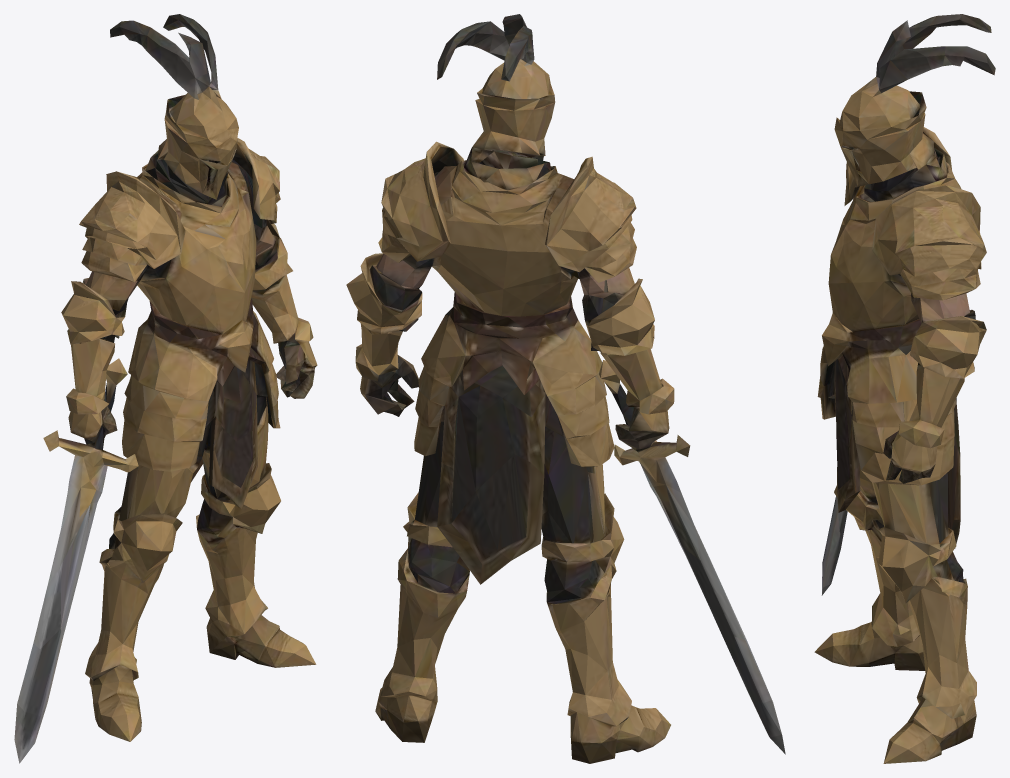
The model's file is ordeval.glb.
3 views of the same model, side by side, from view 1: azimuth 30°, elevation 25°; view 2: azimuth 150°, elevation 25°; view 3: azimuth 270°, elevation 25° (orthographic). The views are drawn at different scales.
Parts seen in each view (by area): view 1: avatar; view 2: avatar; view 3: avatar.
Boxes of the visible parts, <box> form: avatar: <box>14,14,317,763</box>; avatar: <box>346,14,785,763</box>; avatar: <box>814,14,995,763</box>.
Size of the model in its own units: 0.543 by 1 by 0.2421.
Materials: 1 (1 with a texture image).
